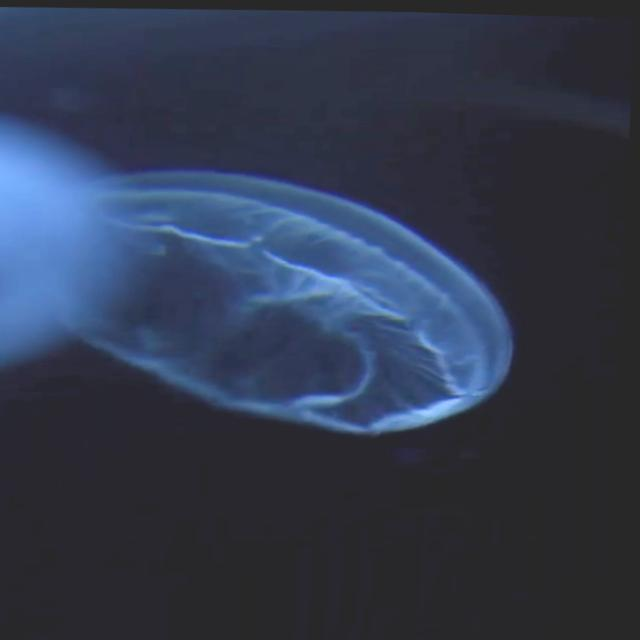Moon-jellyfish: (91, 169, 514, 429)
